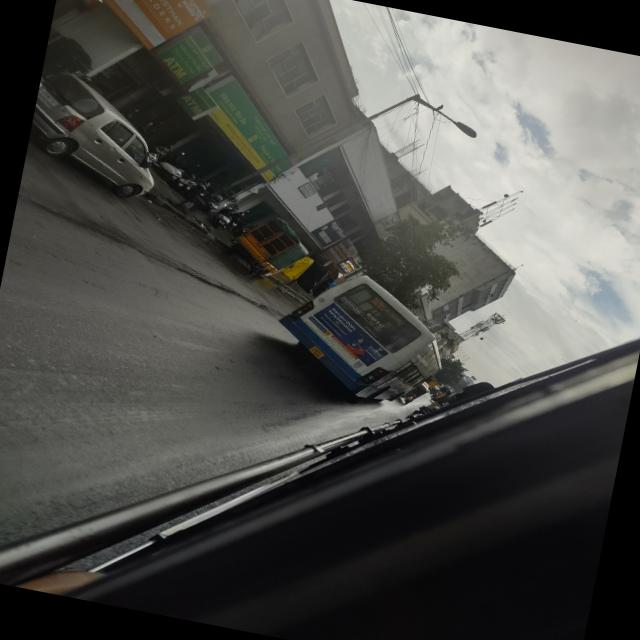bus: (260, 240, 480, 428)
display: (364, 292, 414, 328)
dnumber: (368, 295, 386, 310)
